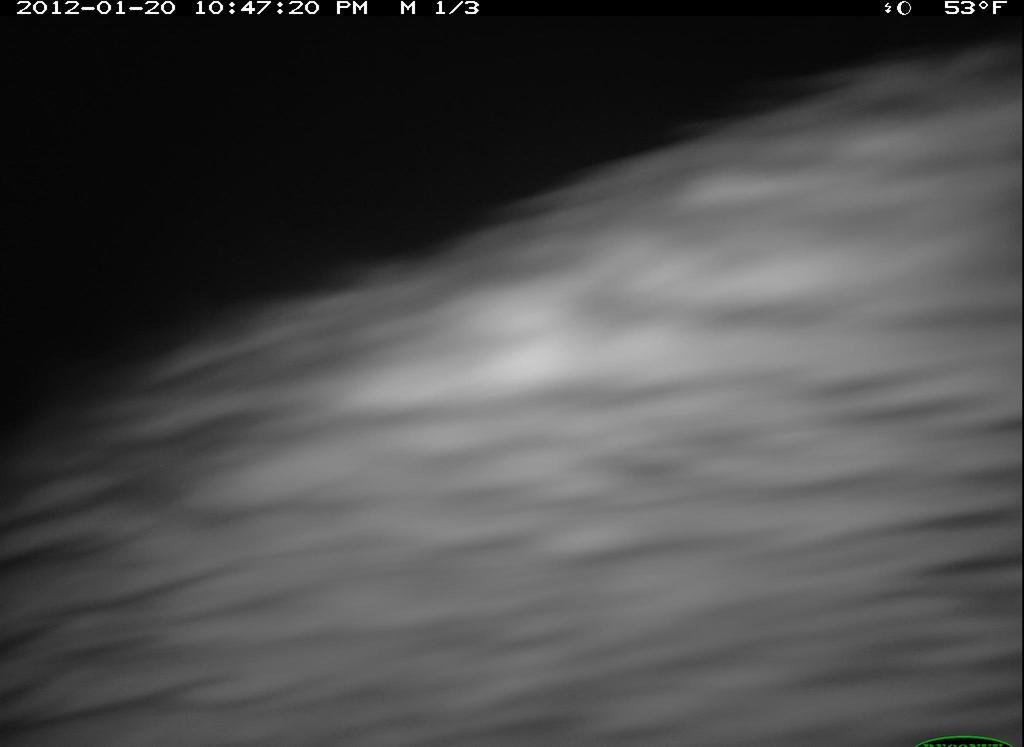raccoon: (12, 52, 1008, 745)
